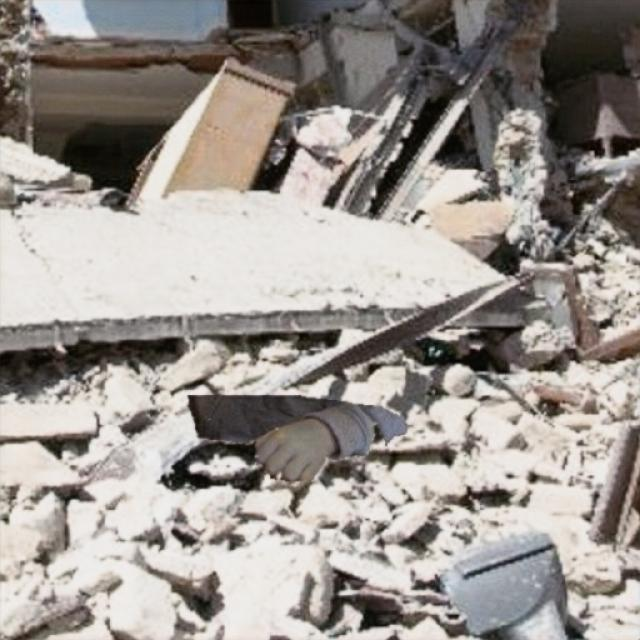Person in Rubble: (188, 395, 406, 480)
